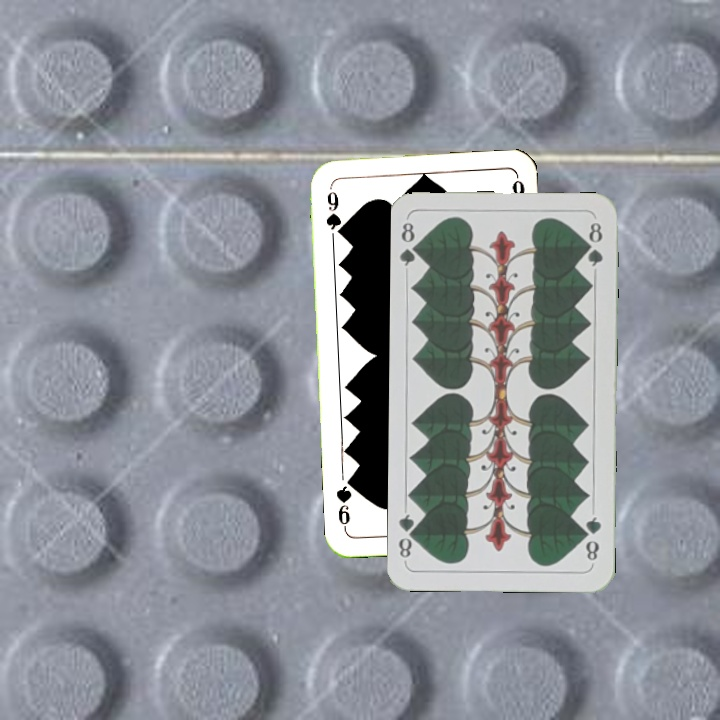G8: (397, 218, 424, 268), (580, 512, 604, 563)
G9: (321, 183, 345, 239)
